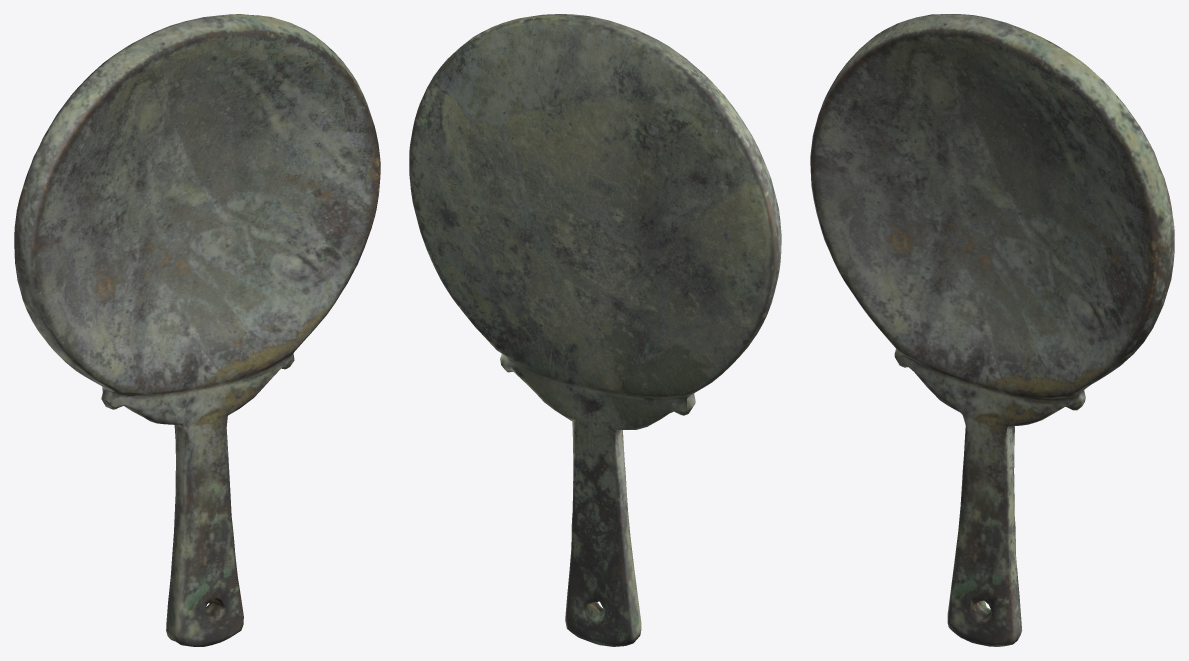
File: SM_Bronze_Mirror.fbx
3 views of the same model, side by side, from view 1: azimuth 30°, elevation 25°; view 2: azimuth 150°, elevation 25°; view 3: azimuth 330°, elevation 25° (orthographic). The views are drawn at different scales.
Parts seen in each view (by area): view 1: KCDF_2022_prop_Bronze_Mirror_Mesh; view 2: KCDF_2022_prop_Bronze_Mirror_Mesh; view 3: KCDF_2022_prop_Bronze_Mirror_Mesh.
Boxes of the visible parts, box(x1,y1,x2,y2) form: KCDF_2022_prop_Bronze_Mirror_Mesh: box(14, 14, 380, 646); KCDF_2022_prop_Bronze_Mirror_Mesh: box(409, 14, 781, 646); KCDF_2022_prop_Bronze_Mirror_Mesh: box(810, 14, 1174, 646).
Size of the model in its own units: 10.83 by 17.76 by 1.35.
Materials: 1 (1 with a texture image).
